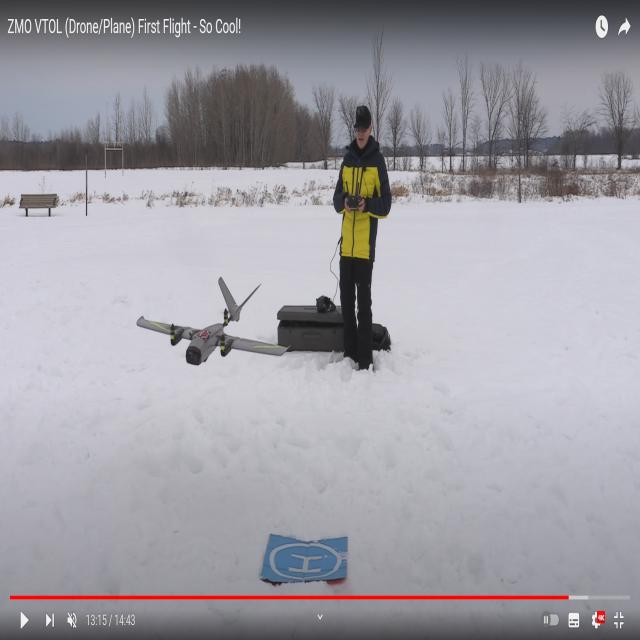iha: (141, 306, 288, 337)
